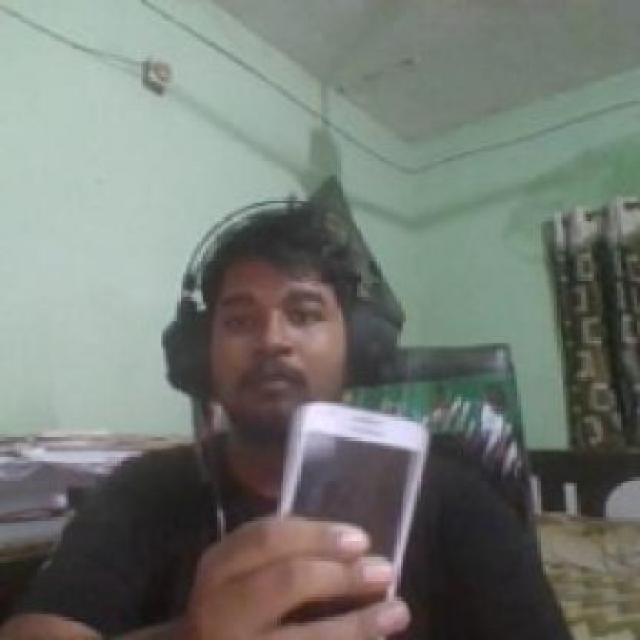Phone: (279, 397, 431, 604)
